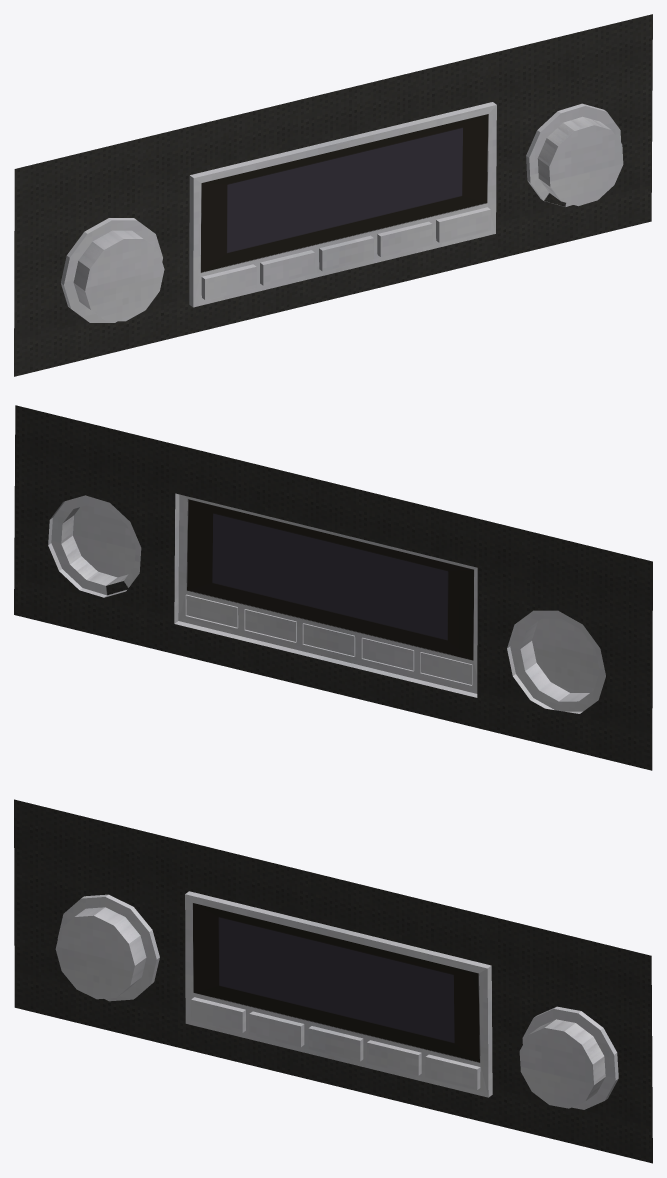
The model's file is Radio.glb.
3 renders of one model, top to bottom at view 1: azimuth 30°, elevation 25°; view 2: azimuth 150°, elevation 25°; view 3: azimuth 330°, elevation 25°, orthographic.
Parts seen in each view (by area): view 1: pCube7; view 2: pCube7; view 3: pCube7.
Boxes of the visible parts, x1,y1,x2,y2 form: pCube7: [14, 14, 652, 376]; pCube7: [14, 405, 652, 770]; pCube7: [14, 799, 652, 1163].
Bounding box in the file's own units: 0.0271 × 0.00847 × 0.00116.
1 material, 1 textured.
